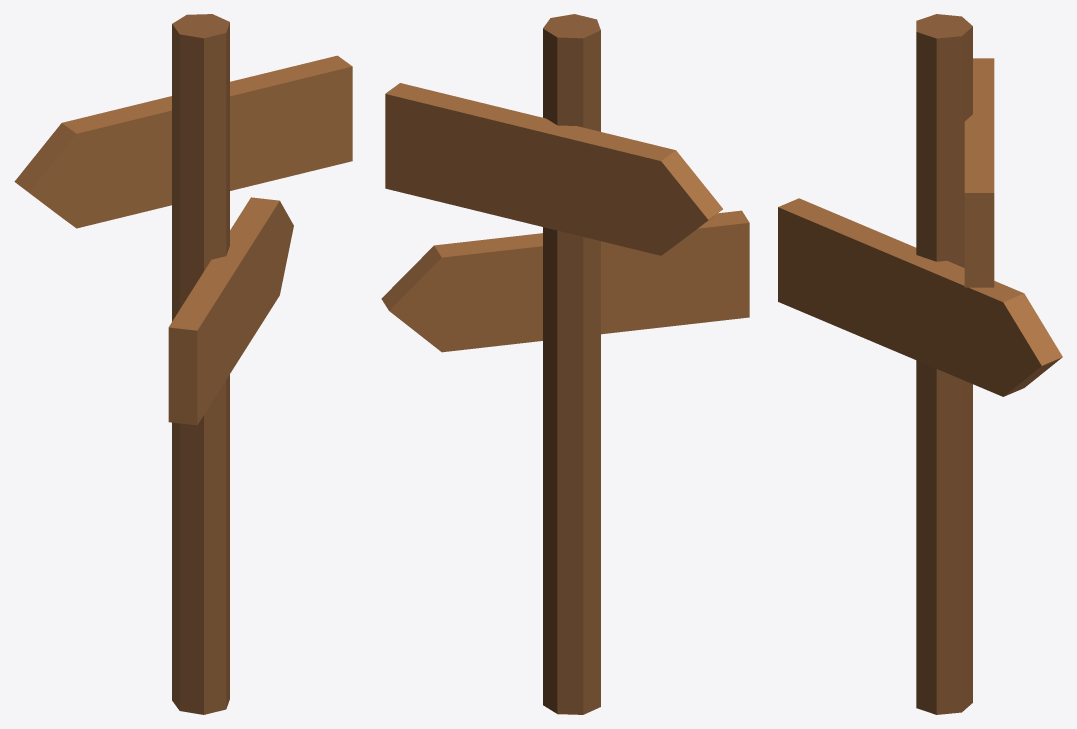
File: wooden_road_sign.fbx
The picture shows the model from 3 angles, left to right: view 1: azimuth 30°, elevation 25°; view 2: azimuth 150°, elevation 25°; view 3: azimuth 270°, elevation 25°; orthographic projection.
Parts seen in each view (by area): view 1: Cylinder, Cube, Cube.001; view 2: Cylinder, Cube, Cube.001; view 3: Cylinder, Cube.001, Cube.
Boxes of the visible parts, x1,y1,x2,y2 form: Cylinder: (172,14,229,714); Cube: (14,55,352,228); Cube.001: (168,197,293,425); Cylinder: (543,14,600,714); Cube: (385,83,722,255); Cube.001: (381,210,749,352); Cylinder: (916,14,972,714); Cube.001: (778,198,1062,396); Cube: (964,58,994,287).
Size of the model in its own units: 500 by 1000 by 382.
